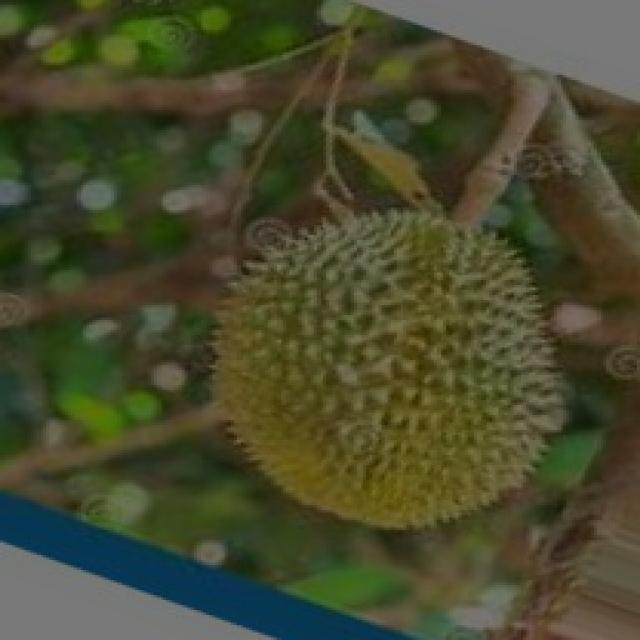fruit: (166, 170, 603, 592)
